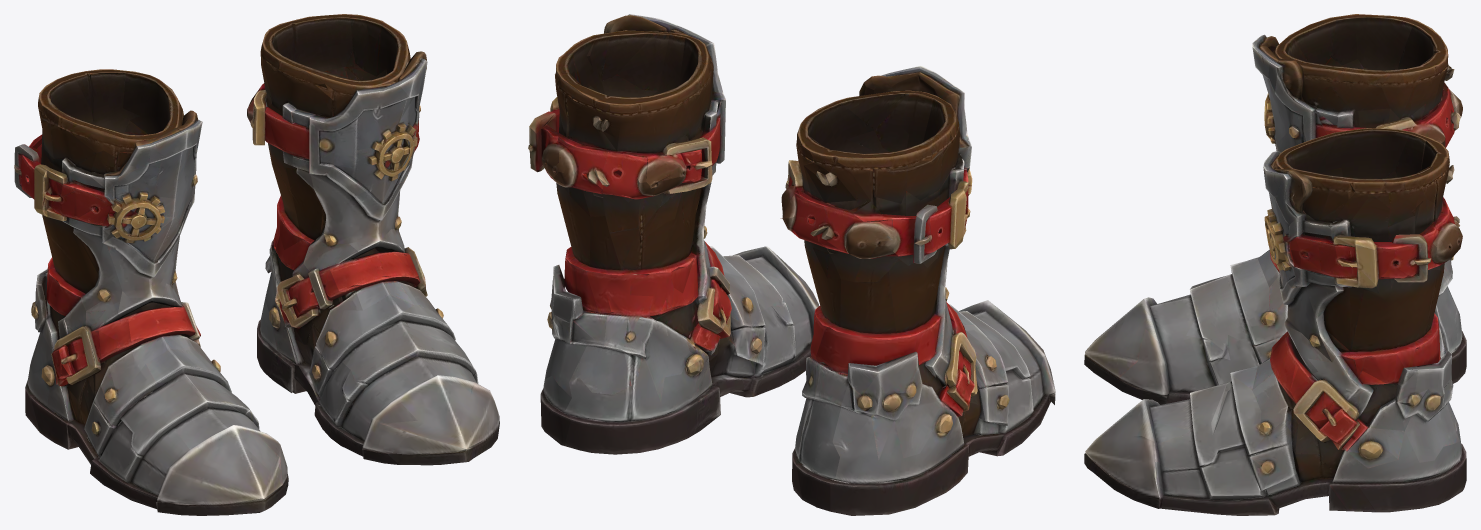
File: armor_medieval_feet.glb
3 views of the same model, side by side, from view 1: azimuth 30°, elevation 25°; view 2: azimuth 150°, elevation 25°; view 3: azimuth 270°, elevation 25° (orthographic). The views are drawn at different scales.
Parts seen in each view (by area): view 1: output_unwrapped; view 2: output_unwrapped; view 3: output_unwrapped.
Boxes of the visible parts, bbox=[...] form: output_unwrapped: bbox=[14, 14, 499, 515]; output_unwrapped: bbox=[528, 14, 1055, 515]; output_unwrapped: bbox=[1084, 14, 1466, 515].
Size of the model in its own units: 1.9 by 1.6 by 1.66.
Materials: 1 (1 with a texture image).
